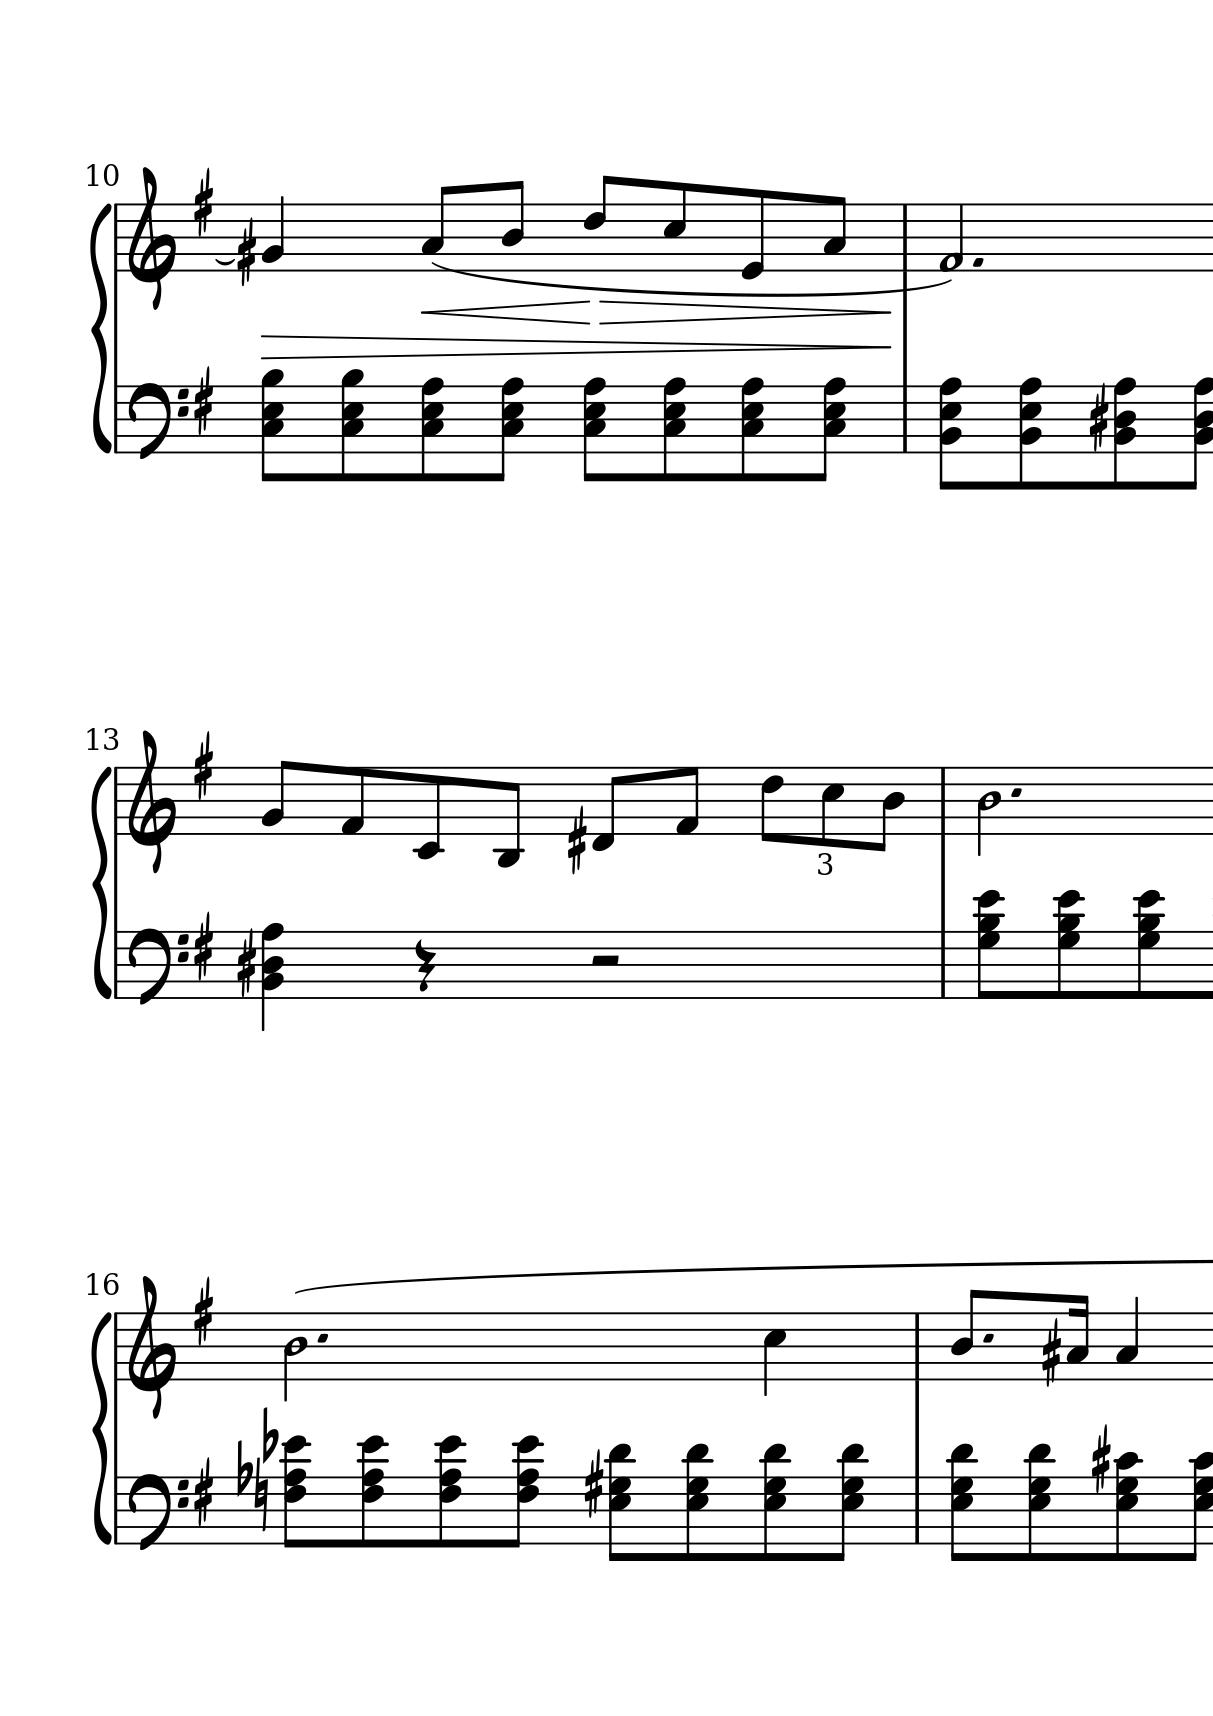0: (100, 160, 118, 189)
1: (83, 160, 98, 190), (84, 1271, 98, 1298), (85, 725, 98, 754)
16_3: (1065, 1292, 1090, 1383)
2_1: (937, 200, 966, 274)
2_4: (280, 1312, 309, 1404), (974, 765, 1002, 859)
3: (101, 725, 119, 754)
4_2: (260, 194, 285, 273)
4_3: (1113, 1295, 1139, 1383)
4_5: (761, 1310, 788, 1400)
4_th: (259, 919, 285, 1031)
6: (100, 1270, 119, 1297)
8_-1: (592, 765, 624, 853)
8_-2: (414, 765, 444, 863)
8_-3: (494, 765, 524, 870)
8_0: (738, 188, 767, 284)
8_1: (337, 765, 368, 838), (672, 765, 701, 838)
8_2: (259, 759, 294, 838)
8_3: (419, 184, 453, 273), (822, 194, 847, 273)
8_4: (948, 1287, 983, 1383), (870, 765, 904, 853), (499, 179, 526, 274)
8_5: (660, 180, 688, 274), (819, 765, 844, 848)
8_6: (580, 173, 614, 274), (759, 765, 782, 844)
8_th: (828, 1440, 866, 1561), (505, 1432, 543, 1551), (679, 1440, 715, 1562), (757, 1442, 792, 1562), (810, 373, 847, 484), (933, 373, 968, 492), (945, 1442, 979, 1560), (1178, 1449, 1213, 1562), (604, 1442, 637, 1562), (1023, 1442, 1055, 1562), (1112, 1448, 1145, 1562), (357, 1432, 389, 1549), (435, 1434, 466, 1551), (1052, 888, 1084, 999), (1132, 888, 1164, 999), (973, 888, 1004, 1000), (1015, 375, 1045, 492), (259, 366, 287, 484), (281, 1432, 310, 1551), (337, 368, 366, 484), (492, 374, 522, 484), (1185, 374, 1213, 492), (1112, 374, 1139, 491), (660, 375, 689, 484), (580, 375, 609, 483), (739, 375, 765, 484), (420, 377, 446, 484)
Brace: (87, 207, 112, 453), (89, 1313, 112, 1541), (91, 761, 112, 998)
Crescendo_hairpin: (420, 299, 589, 324)
Diminuendo_hairpin: (260, 332, 893, 358), (599, 299, 893, 326)
Fclef: (125, 926, 189, 1010), (125, 381, 189, 463), (126, 1470, 188, 1555)
Flat: (260, 1406, 278, 1465), (234, 1438, 251, 1497)
Gclef: (125, 163, 179, 310), (125, 727, 179, 873), (123, 1274, 177, 1419)
Natural: (252, 1467, 269, 1531)
Rests2: (587, 951, 624, 972)
Rests4: (412, 937, 436, 995)
Sharp: (190, 729, 217, 801), (189, 365, 214, 439), (190, 165, 215, 238), (190, 1275, 215, 1347), (1088, 1422, 1113, 1494), (1084, 385, 1109, 456), (190, 1457, 214, 1530), (563, 806, 587, 874), (190, 912, 214, 981), (582, 1452, 605, 1520), (232, 930, 255, 1000), (1038, 1318, 1061, 1389), (235, 218, 256, 289)
Single_barline: (895, 204, 915, 270), (895, 386, 914, 453), (933, 932, 952, 998), (907, 1314, 926, 1380), (933, 767, 950, 835), (908, 1477, 926, 1543), (109, 387, 123, 452), (112, 765, 125, 835), (110, 206, 123, 274), (110, 932, 123, 997), (110, 1477, 123, 1541), (112, 1313, 122, 1380)
Slur: (210, 257, 238, 268)
dot: (1007, 784, 1025, 801), (979, 1330, 996, 1347), (314, 1330, 330, 1347), (970, 255, 985, 269)
